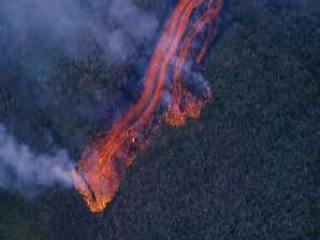fire: (71, 46, 152, 211), (158, 3, 219, 130)
smoke: (3, 120, 71, 200), (77, 4, 161, 59), (170, 54, 210, 100)
